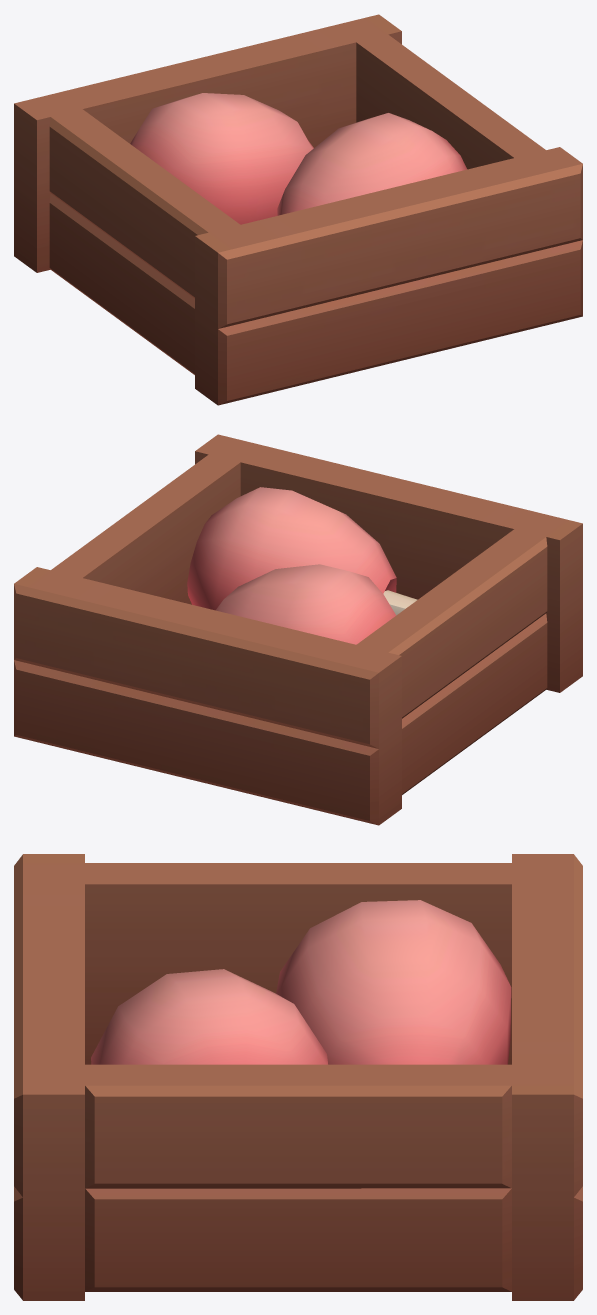
File: crate_ham.glb
3 renders of one model, top to bottom at view 1: azimuth 30°, elevation 25°; view 2: azimuth 150°, elevation 25°; view 3: azimuth 270°, elevation 25°, orthographic. The views are drawn at different scales.
Parts seen in each view (by area): view 1: crate_ham; view 2: crate_ham; view 3: crate_ham.
Boxes of the visible parts, x1,y1,x2,y2 form: crate_ham: [14, 14, 582, 405]; crate_ham: [14, 434, 582, 825]; crate_ham: [14, 854, 582, 1300].
Bounding box in the file's own units: 2 × 0.8937 × 2.
1 material, 1 textured.
